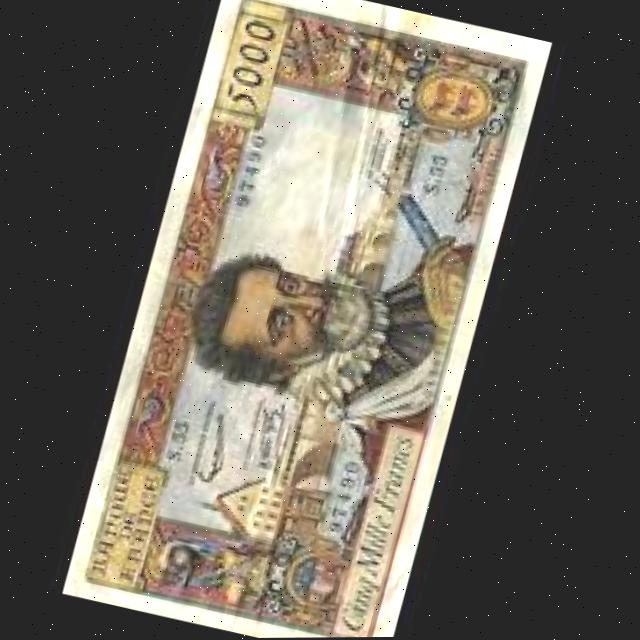banknote: (63, 0, 551, 640), (219, 5, 288, 116)
